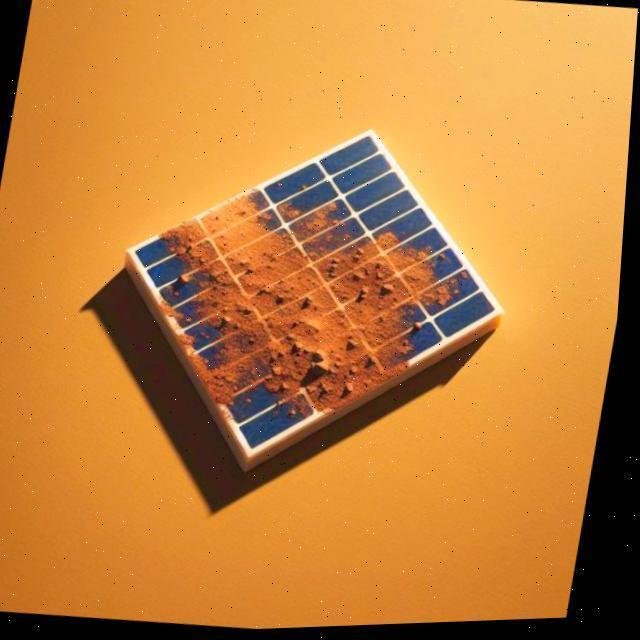Anomaly Solar Panel: (135, 93, 508, 471)
Surface Contaminant: (138, 116, 501, 463)
